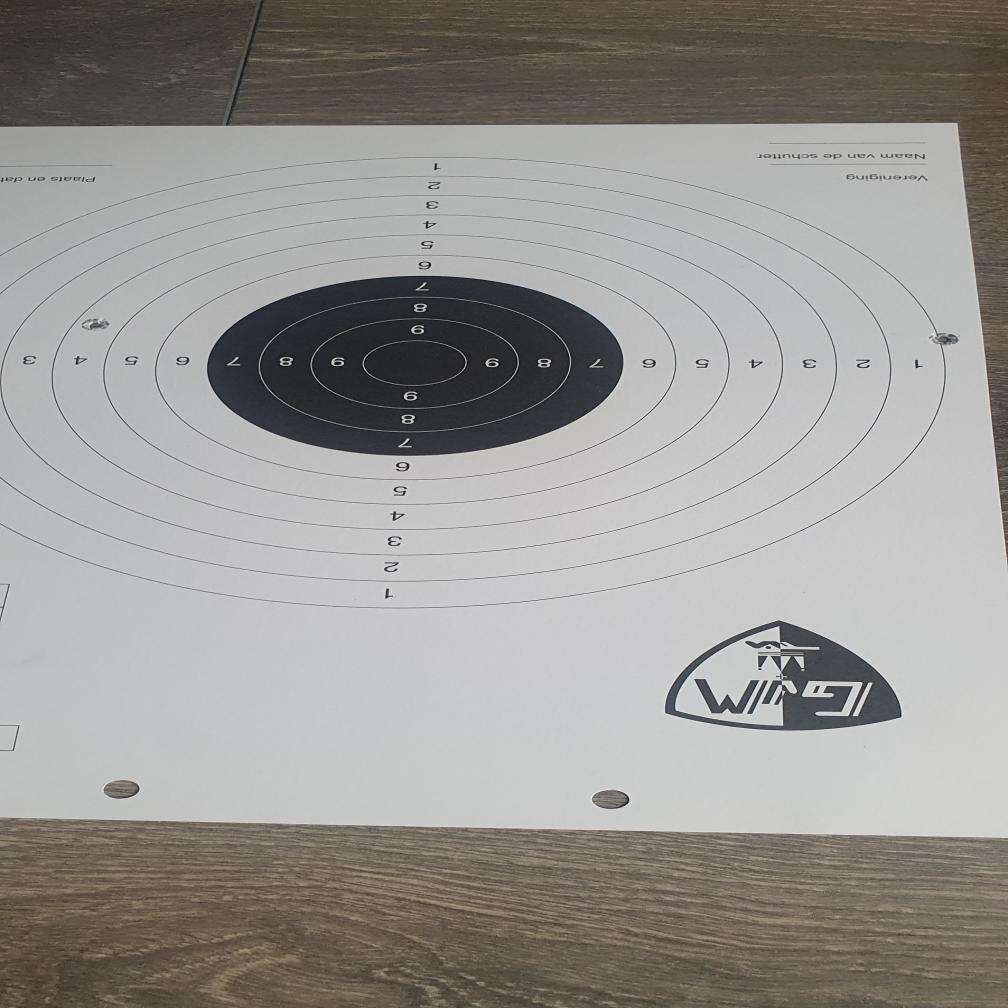1: (924, 330, 962, 346)
4: (78, 317, 112, 332)
Target: (0, 159, 969, 609)
black_contour: (204, 276, 625, 456)
